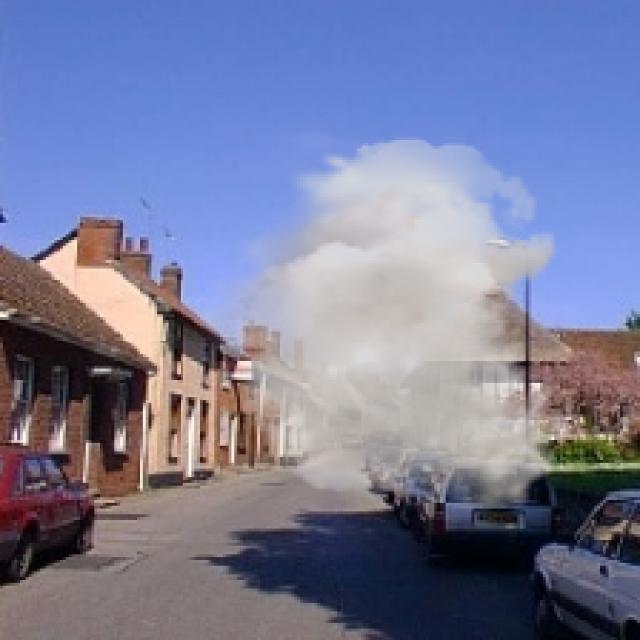smoke: (188, 137, 568, 512)
